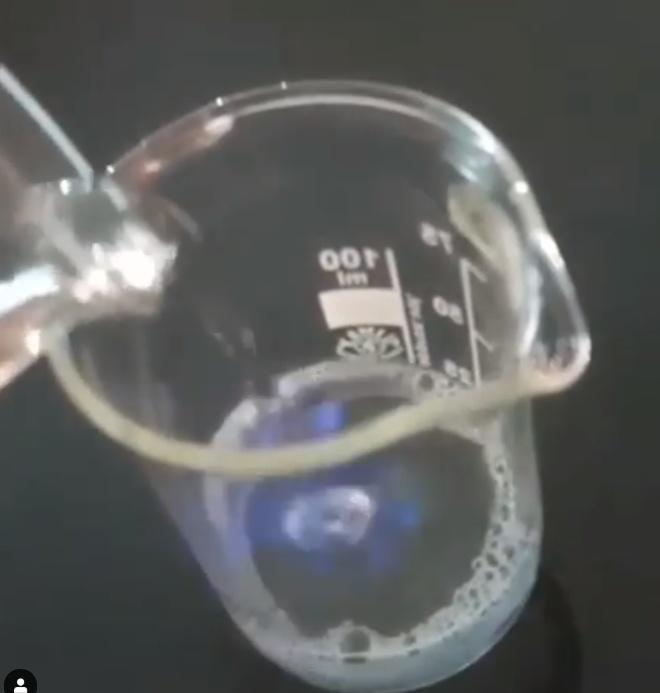Beaker: (19, 84, 613, 683)
